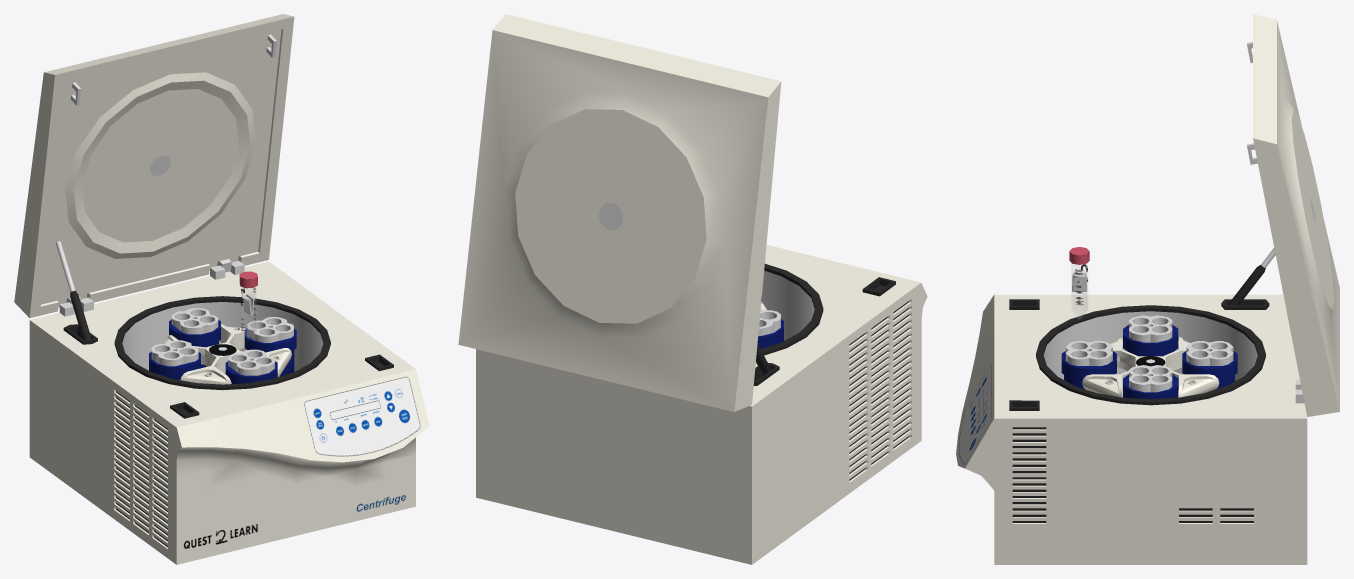
File: centrifuge.glb
The picture shows the model from 3 angles, left to right: view 1: azimuth 30°, elevation 25°; view 2: azimuth 150°, elevation 25°; view 3: azimuth 270°, elevation 25°; orthographic projection. The views are drawn at different scales.
Parts seen in each view (by area): view 1: Centrifuge, Lid, Arms, Tube Holder.001, Tube Holder.003, Tube Holder, Tube Holder.002, Cup.002, Piston, Cup.001, Cup.003, Cup (+1 smaller); view 2: Lid, Centrifuge; view 3: Centrifuge, Lid, Arms, Tube Holder.002, Tube Holder, Tube Holder.001, Tube Holder.003, Cup.003, Cup, Cup.001, Cup.002, Piston (+1 smaller).
Boxes of the visible parts, bbox=[...] form: Centrifuge: bbox=[29, 261, 429, 564]; Lid: bbox=[14, 14, 294, 318]; Arms: bbox=[163, 324, 291, 384]; Tube Holder.001: bbox=[171, 308, 218, 334]; Tube Holder.003: bbox=[151, 340, 198, 366]; Tube Holder: bbox=[228, 349, 274, 375]; Tube Holder.002: bbox=[247, 317, 293, 342]; Cup.002: bbox=[244, 328, 296, 376]; Piston: bbox=[56, 241, 91, 340]; Cup.001: bbox=[169, 319, 220, 368]; Cup.003: bbox=[149, 352, 200, 380]; Cup: bbox=[225, 361, 277, 383]; Lid: bbox=[458, 14, 781, 411]; Centrifuge: bbox=[476, 245, 927, 564]; Centrifuge: bbox=[956, 294, 1307, 564]; Lid: bbox=[1247, 14, 1339, 416]; Arms: bbox=[1082, 336, 1219, 397]; Tube Holder.002: bbox=[1129, 365, 1172, 392]; Tube Holder: bbox=[1065, 341, 1112, 365]; Tube Holder.001: bbox=[1186, 341, 1233, 365]; Tube Holder.003: bbox=[1129, 315, 1172, 342]; Cup.003: bbox=[1123, 324, 1178, 371]; Cup: bbox=[1061, 351, 1116, 388]; Cup.001: bbox=[1182, 351, 1237, 389]; Cup.002: bbox=[1123, 374, 1178, 399]; Piston: bbox=[1227, 248, 1275, 305].
Bounding box in the file's own units: 0.465 × 0.7523 × 0.607.
10 materials, 2 textured.
